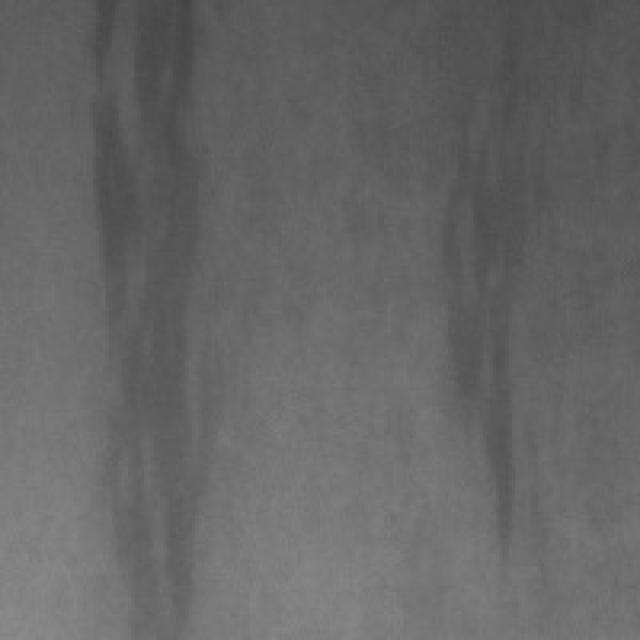inclusion: (83, 0, 227, 634), (429, 16, 563, 611)
